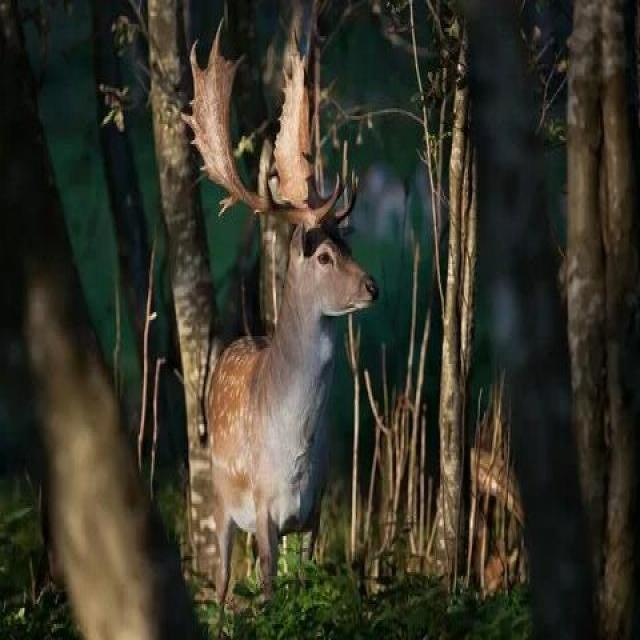deer: (178, 133, 414, 536)
